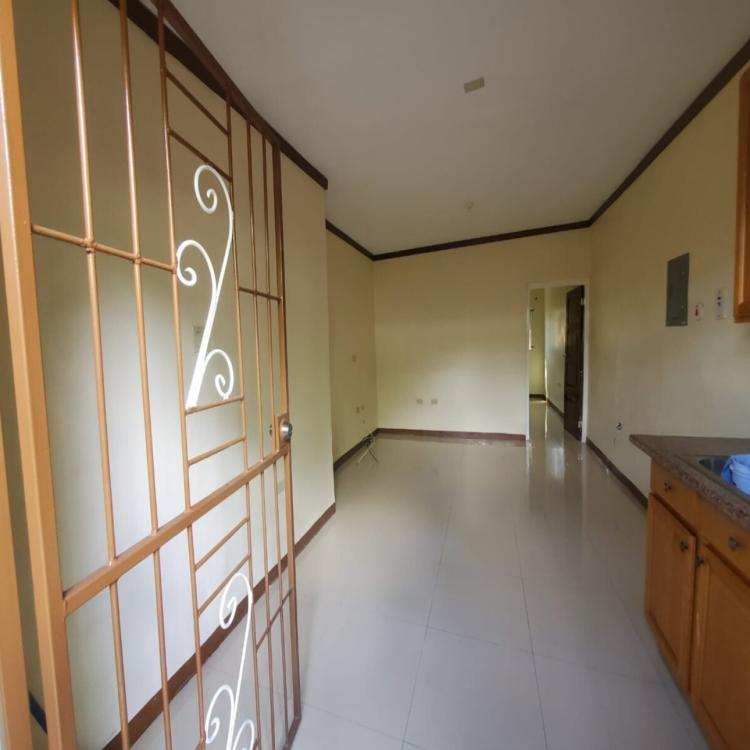OpenDoor: (526, 281, 587, 448)
